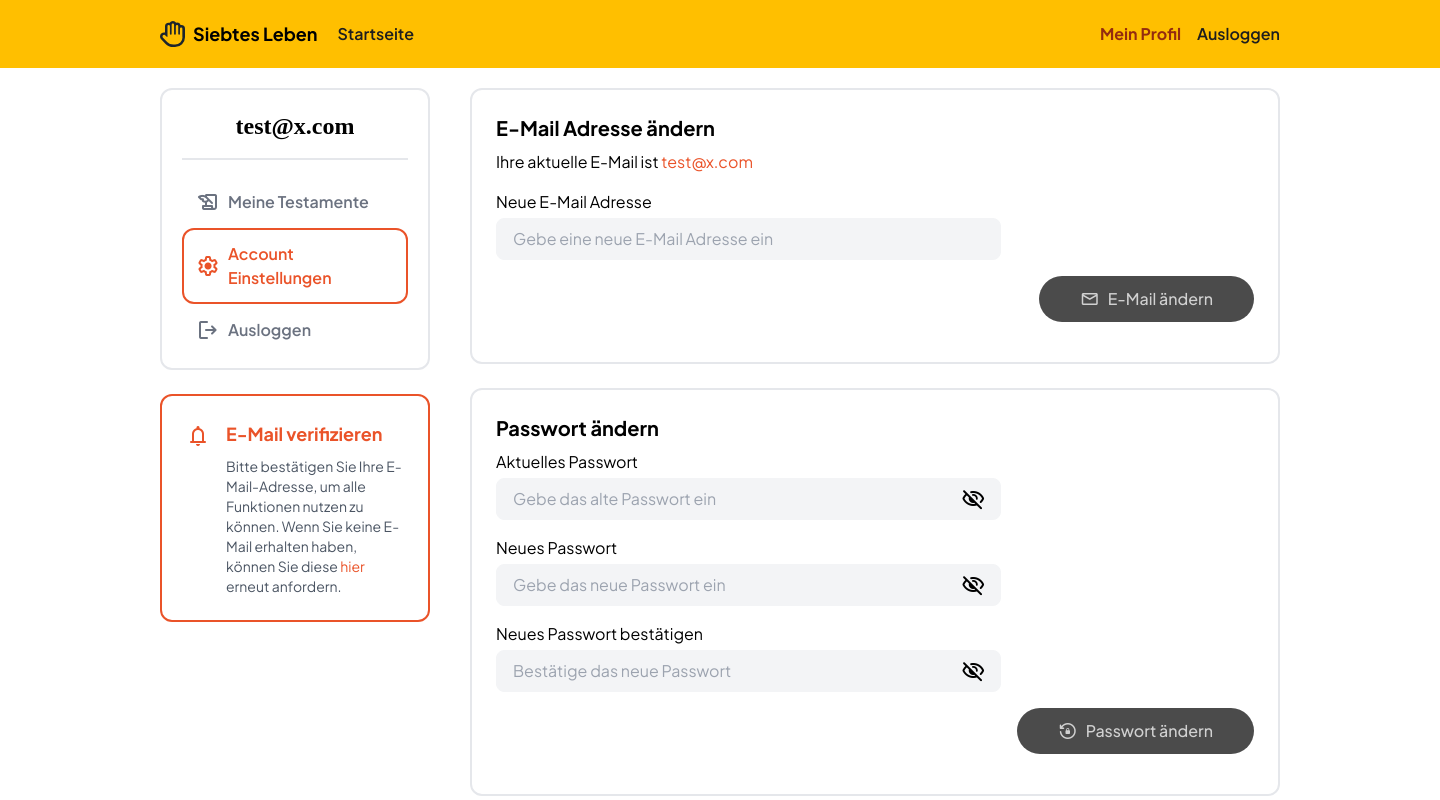
Account Settings › Change Email › should show error message when email is already taken
In the field labelled "Neue E-Mail Adresse": (749, 239) top-left (496, 218), bottom-right (1001, 260), type "test@gmail.com"
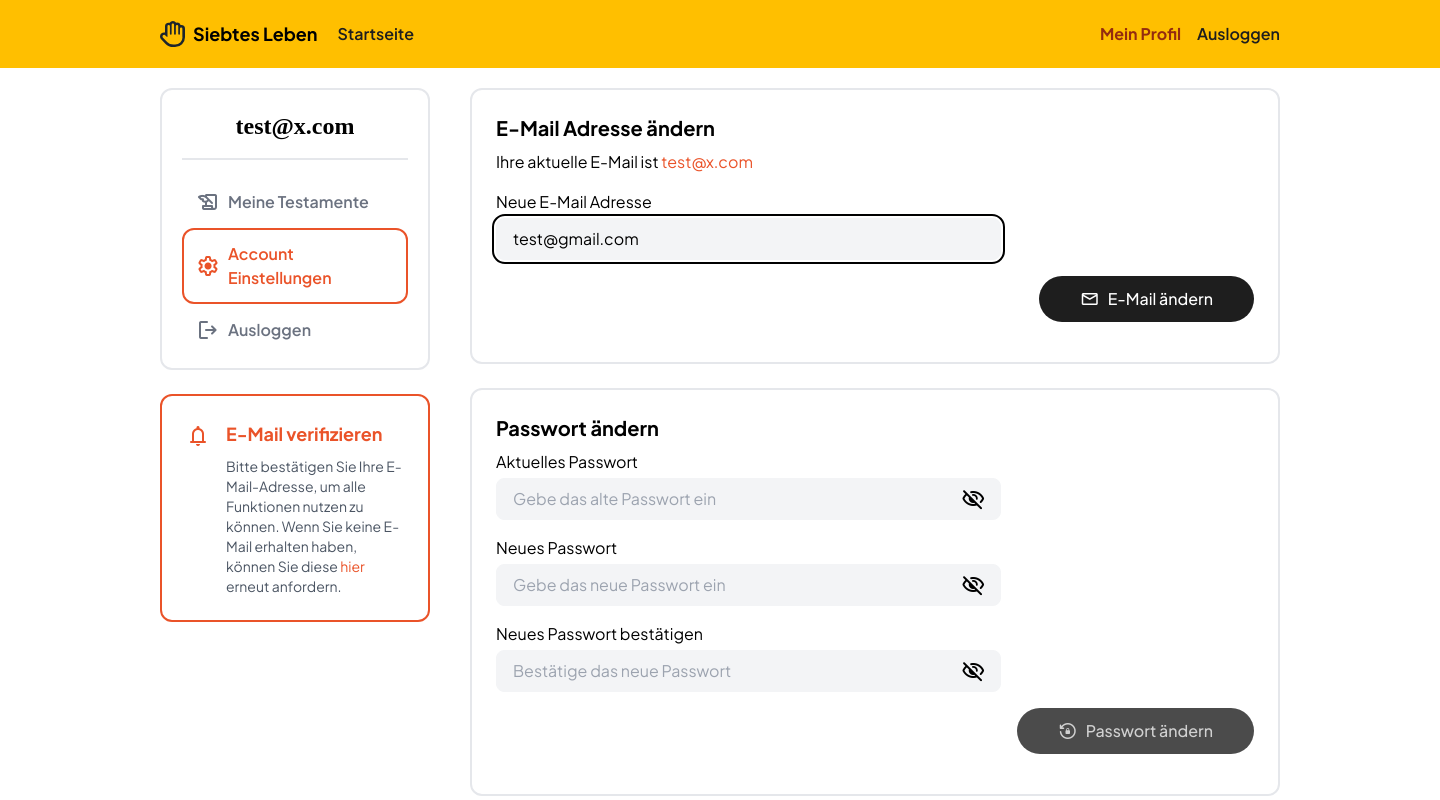
Click the button "E-Mail ändern": (1147, 299) top-left (1039, 276), bottom-right (1254, 322)
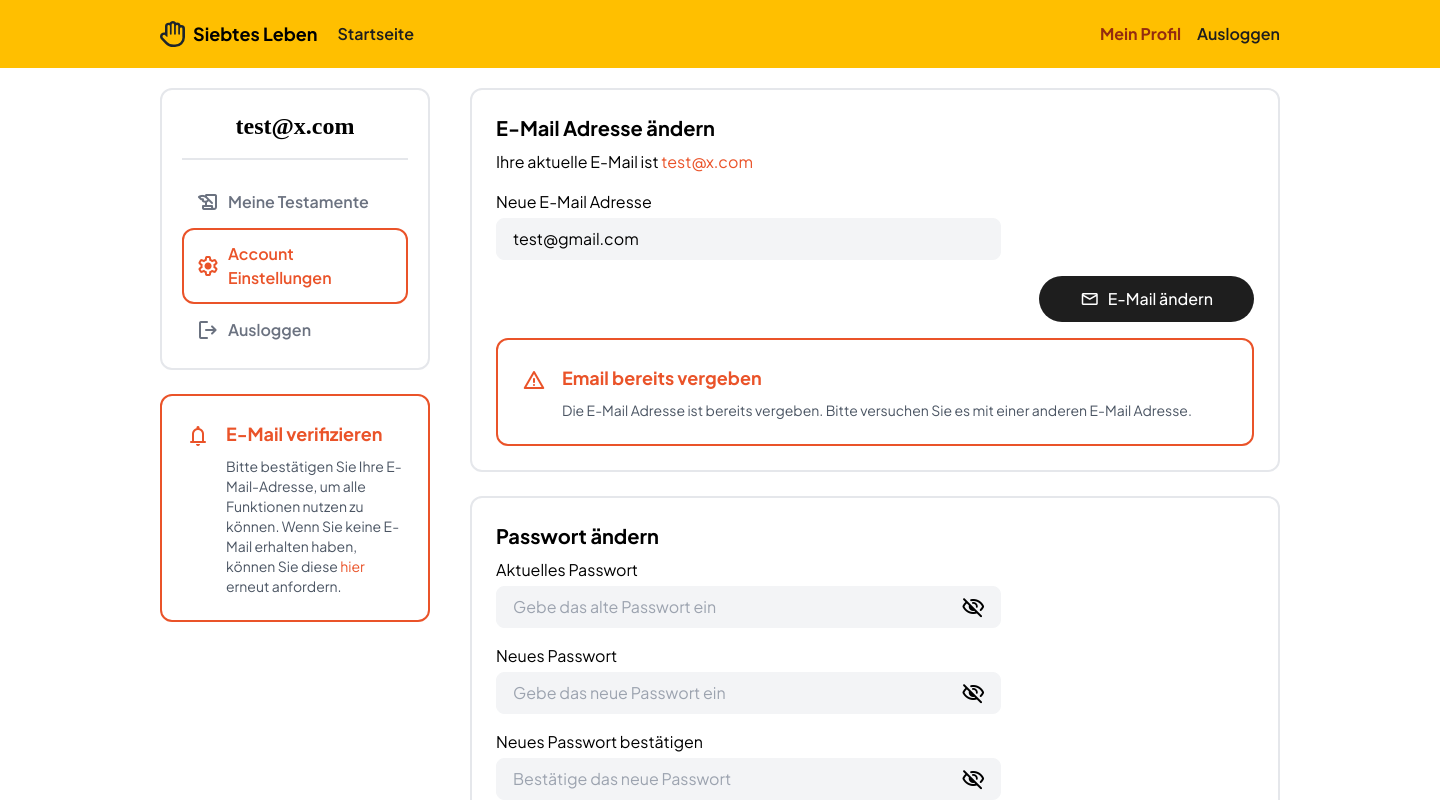
Expected: the heading "Email bereits vergeben" is shown, top-left (562, 366), bottom-right (762, 389)
Expected: the text "Die E-Mail Adresse ist bereits vergeben. Bitte versuchen Sie es mit einer anderen E-Mail Adresse." is shown, top-left (562, 401), bottom-right (1192, 419)
